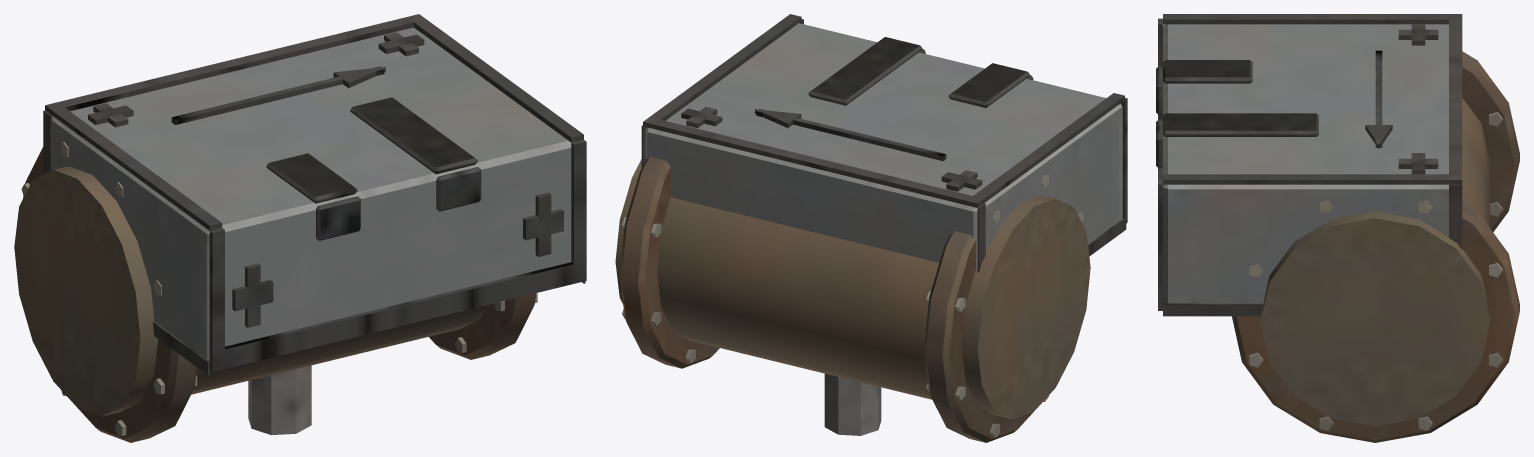
The model's file is top-up-valve-east.glb.
3 renders of one model, left to right at view 1: azimuth 30°, elevation 25°; view 2: azimuth 150°, elevation 25°; view 3: azimuth 270°, elevation 25°, orthographic. The views are drawn at different scales.
Visible parts, largest first — view 1: body; view 2: body; view 3: body.
Boxes of the visible parts, x1,y1,x2,y2 form: body: [14, 14, 586, 442]; body: [615, 14, 1127, 442]; body: [1156, 14, 1519, 442].
Bounding box in the file's own units: 1 × 0.776 × 0.856.
Materials: 1 (1 with a texture image).
